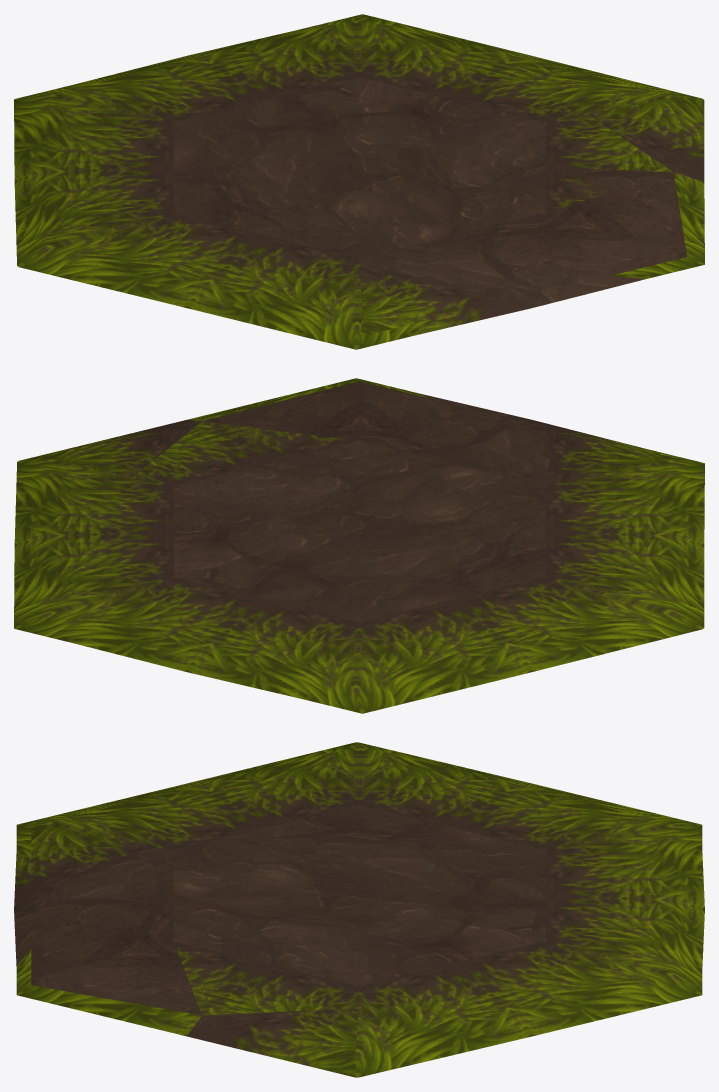
The model's file is PathTile.Single_and_Double.fbx.
The picture shows the model from 3 angles, top to bottom: view 1: azimuth 30°, elevation 25°; view 2: azimuth 150°, elevation 25°; view 3: azimuth 270°, elevation 25°; orthographic projection.
Visible parts, largest first — view 1: Path.Single.A, Path.Double.A; view 2: Path.Single.A, Path.Double.A; view 3: Path.Single.A, Path.Double.A.
Part boxes in pixels (box(x1,y1,x2,y2)): Path.Single.A: box(14, 14, 704, 349); Path.Double.A: box(18, 20, 704, 336); Path.Single.A: box(14, 378, 704, 713); Path.Double.A: box(18, 381, 704, 699); Path.Single.A: box(16, 742, 702, 1077); Path.Double.A: box(14, 742, 704, 1077).
Size of the model in its own units: 10.75 by 0.2135 by 9.36.
